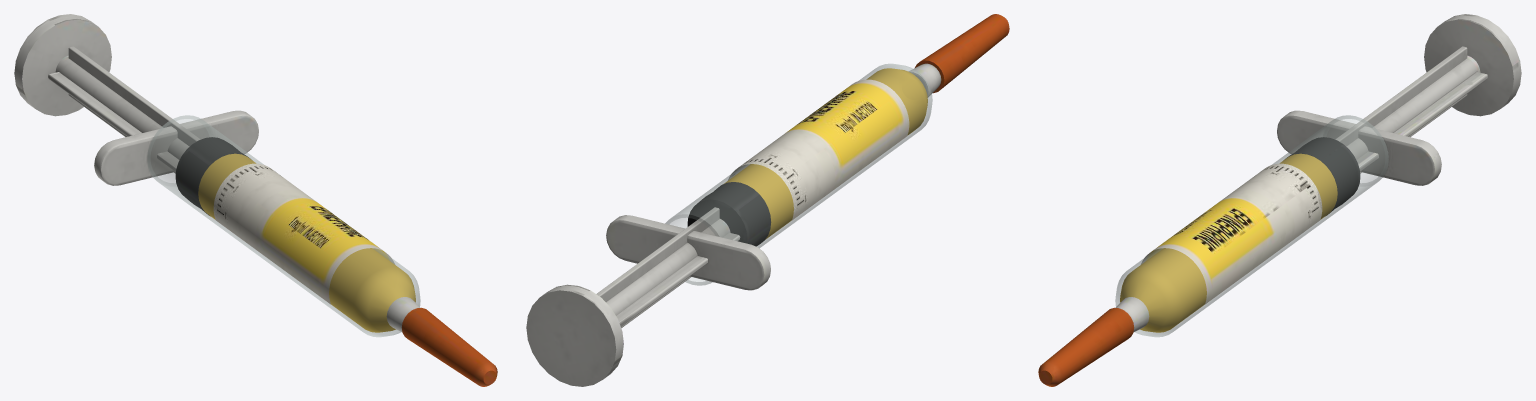
The model's file is item_adrenaline.glb.
3 renders of one model, left to right at view 1: azimuth 30°, elevation 25°; view 2: azimuth 150°, elevation 25°; view 3: azimuth 330°, elevation 25°, orthographic.
Parts seen in each view (by area): view 1: body, glass, liquid; view 2: body, glass, liquid; view 3: body, glass, liquid.
Boxes of the visible parts, x1,y1,x2,y2 form: body: [14, 14, 497, 386]; glass: [147, 115, 420, 337]; liquid: [198, 153, 415, 332]; body: [526, 14, 1009, 386]; glass: [665, 63, 932, 285]; liquid: [724, 68, 927, 239]; body: [1038, 14, 1521, 386]; glass: [1115, 115, 1388, 337]; liquid: [1120, 153, 1337, 332].
Bounding box in the file's own units: 0.048 × 0.027 × 0.224.
3 materials, 1 textured.
